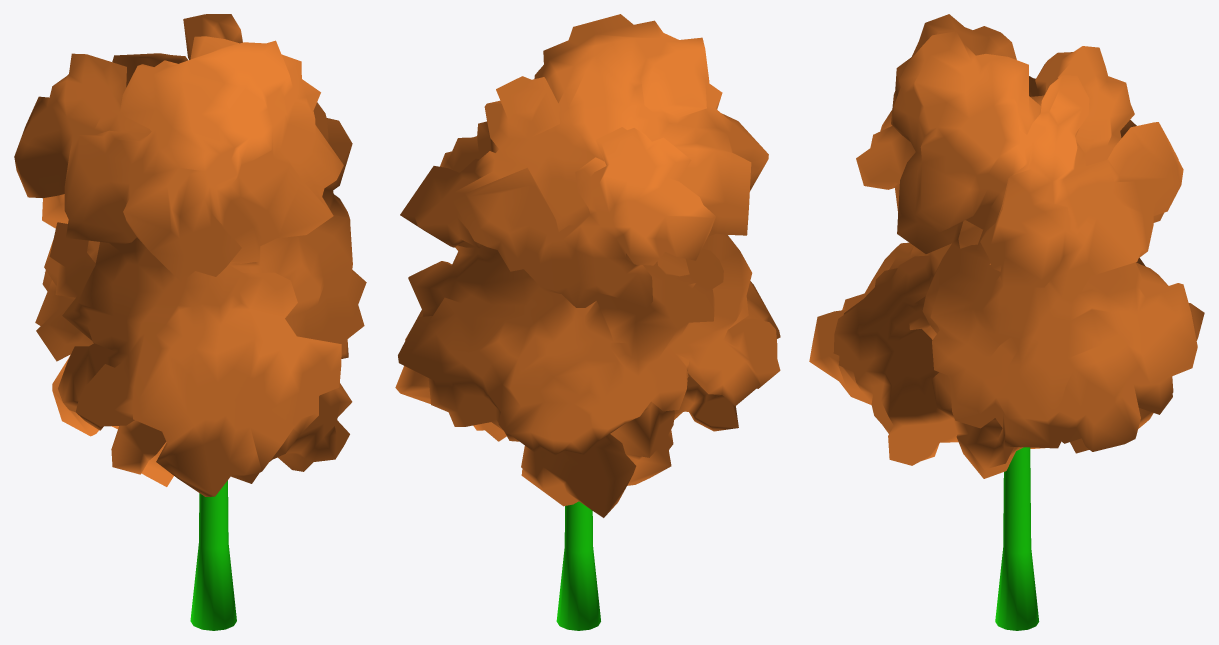
Rendered from tree.fbx.
The picture shows the model from 3 angles, left to right: view 1: azimuth 30°, elevation 25°; view 2: azimuth 150°, elevation 25°; view 3: azimuth 270°, elevation 25°; orthographic projection. The views are drawn at different scales.
Parts seen in each view (by area): view 1: Icosphere.001; view 2: Icosphere.001; view 3: Icosphere.001.
Boxes of the visible parts, <box> form: Icosphere.001: <box>14,14,366,630</box>; Icosphere.001: <box>395,14,780,630</box>; Icosphere.001: <box>809,14,1204,630</box>.
Size of the model in its own units: 321 by 585 by 368.
